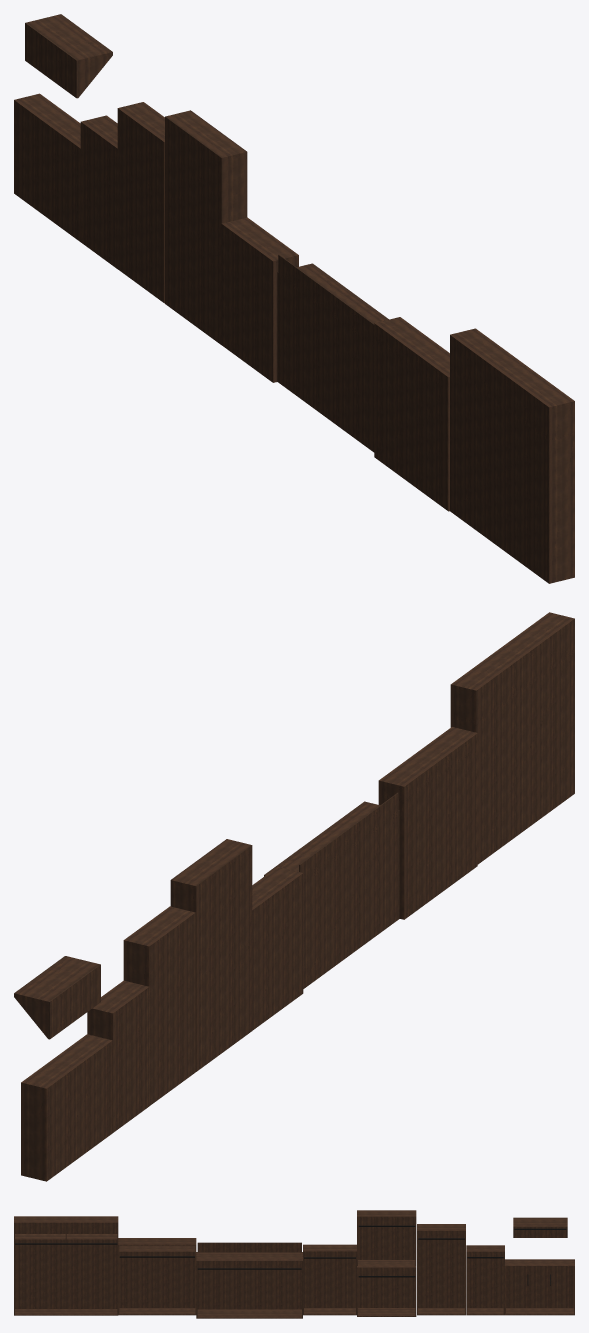
The model's file is szafki-na-prawo.fbx.
The picture shows the model from 3 angles, top to bottom: view 1: azimuth 30°, elevation 25°; view 2: azimuth 150°, elevation 25°; view 3: azimuth 270°, elevation 25°; orthographic projection. The views are drawn at different scales.
Visible parts, largest first — view 1: szafki-na-prawo; view 2: szafki-na-prawo; view 3: szafki-na-prawo.
Part boxes in pixels (x1,y1,x2,y2): szafki-na-prawo: (14, 14, 574, 583); szafki-na-prawo: (14, 612, 574, 1181); szafki-na-prawo: (14, 1210, 574, 1318).
Size of the model in its own units: 18.34 by 81.89 by 423.
